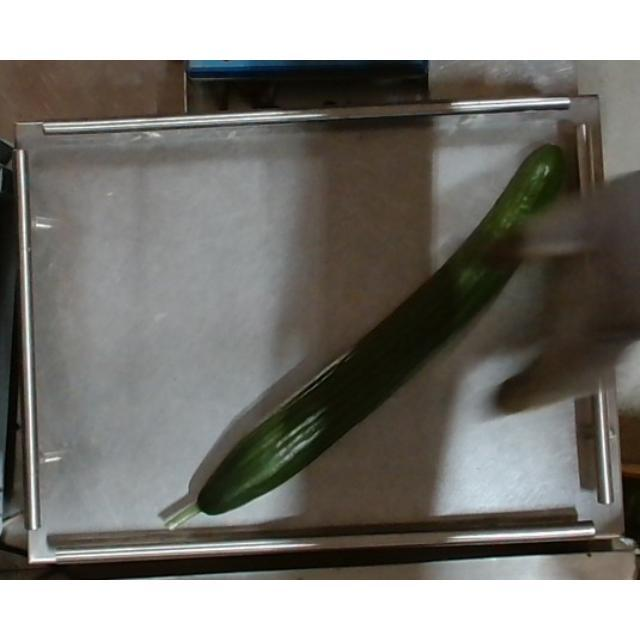cucumber: (172, 126, 568, 516)
